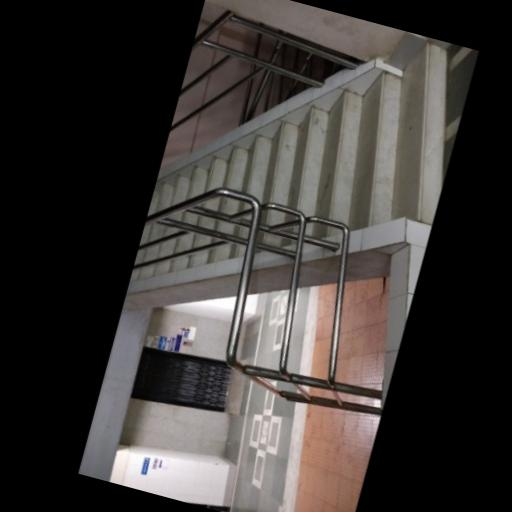stairs: (149, 45, 446, 231)
